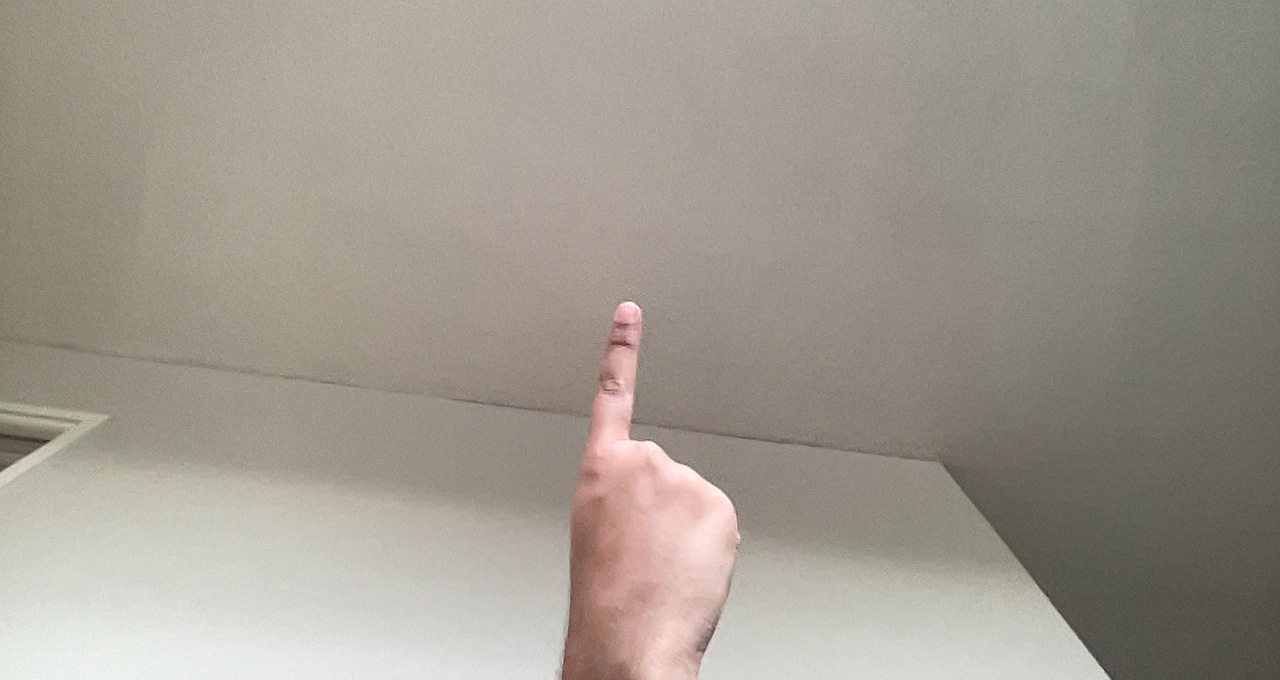fingerup: (557, 288, 745, 671)
